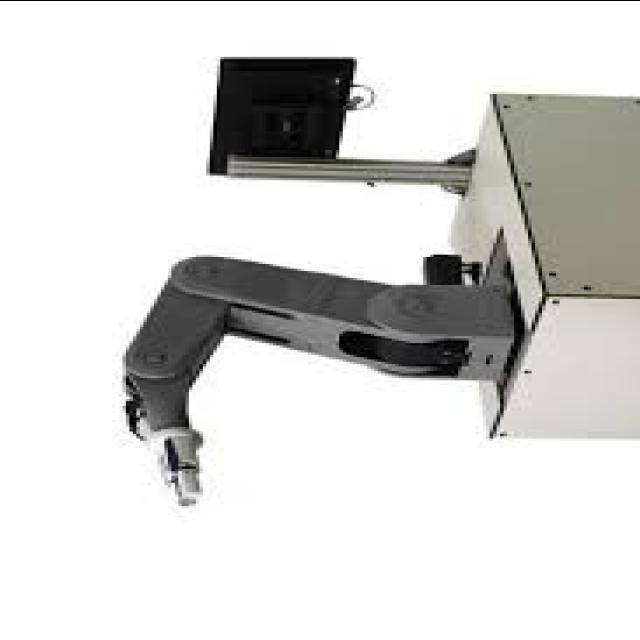Robotic-arm: (104, 250, 512, 512)
